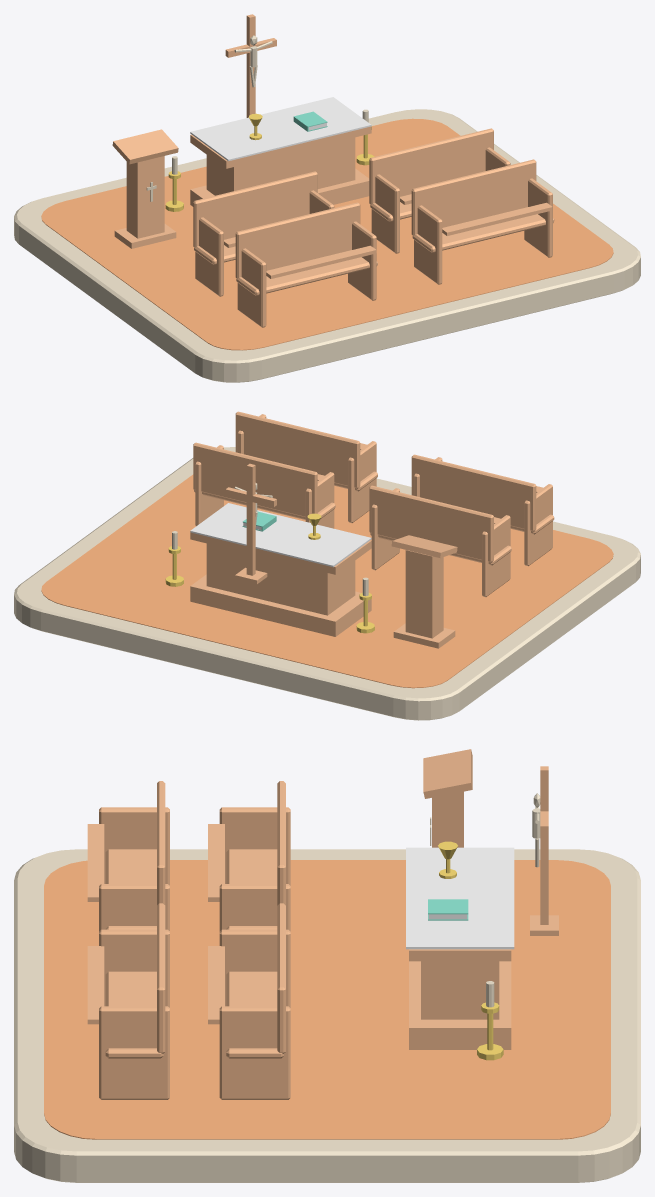
The picture shows the model from 3 angles, top to bottom: view 1: azimuth 30°, elevation 25°; view 2: azimuth 150°, elevation 25°; view 3: azimuth 270°, elevation 25°; orthographic projection. The views are drawn at different scales.
Parts seen in each view (by area): view 1: COM-02 Floor Surface, COM-01 Rounded Base Direct, Back.002, Back.003, Altar cloth, Back.001, Back, Altar, Body, End panel.004, End panel.006, End panel (+12 smaller); view 2: COM-02 Floor Surface, COM-01 Rounded Base Direct, Altar, Back, Back.002, Back.003, Altar cloth, Back.001, Base, Body, End panel.004, End panel (+10 smaller); view 3: COM-02 Floor Surface, COM-01 Rounded Base Direct, Altar cloth, End panel.003, End panel.007, Base, Altar, End panel.002, End panel, End panel.006, End panel.004, End panel.001 (+18 smaller).
Part boxes in pixels (left/top/right/bottom): COM-02 Floor Surface: left=41, top=118, right=613, bottom=350; COM-01 Rounded Base Direct: left=14, top=109, right=640, bottom=382; Back.002: left=235, top=202, right=360, bottom=278; Back.003: left=411, top=159, right=536, bottom=235; Altar cloth: left=190, top=97, right=371, bottom=161; Back.001: left=369, top=128, right=493, bottom=204; Back: left=193, top=171, right=317, bottom=247; Altar: left=206, top=137, right=355, bottom=195; Body: left=126, top=156, right=164, bottom=238; End panel.004: left=237, top=248, right=266, bottom=327; End panel.006: left=414, top=205, right=442, bottom=284; End panel: left=195, top=217, right=223, bottom=296; COM-02 Floor Surface: left=41, top=474, right=613, bottom=688; COM-01 Rounded Base Direct: left=14, top=447, right=640, bottom=720; Altar: left=206, top=543, right=355, bottom=615; Back: left=369, top=485, right=493, bottom=562; Back.002: left=411, top=454, right=536, bottom=531; Back.003: left=235, top=411, right=360, bottom=488; Altar cloth: left=190, top=503, right=371, bottom=567; Back.001: left=193, top=442, right=317, bottom=516; Base: left=190, top=574, right=371, bottom=636; Body: left=405, top=550, right=443, bottom=638; End panel.004: left=524, top=484, right=552, bottom=566; End panel: left=482, top=515, right=510, bottom=597; COM-02 Floor Surface: left=44, top=860, right=610, bottom=1139; COM-01 Rounded Base Direct: left=14, top=849, right=640, bottom=1182; Altar cloth: left=406, top=847, right=514, bottom=949; End panel.003: left=219, top=1006, right=290, bottom=1099; End panel.007: left=99, top=1006, right=169, bottom=1099; Base: left=409, top=961, right=511, bottom=1049; Altar: left=421, top=961, right=499, bottom=1019; End panel.002: left=219, top=929, right=290, bottom=1007; End panel: left=219, top=807, right=290, bottom=885; End panel.006: left=99, top=929, right=169, bottom=1007; End panel.004: left=99, top=807, right=169, bottom=885; End panel.001: left=219, top=884, right=290, bottom=931.
Bounding box in the file's own units: 6 × 2.41 × 5.2.
1 material, 1 textured.
